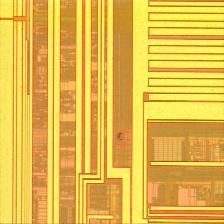PARTICLE: (115, 130, 131, 146)
